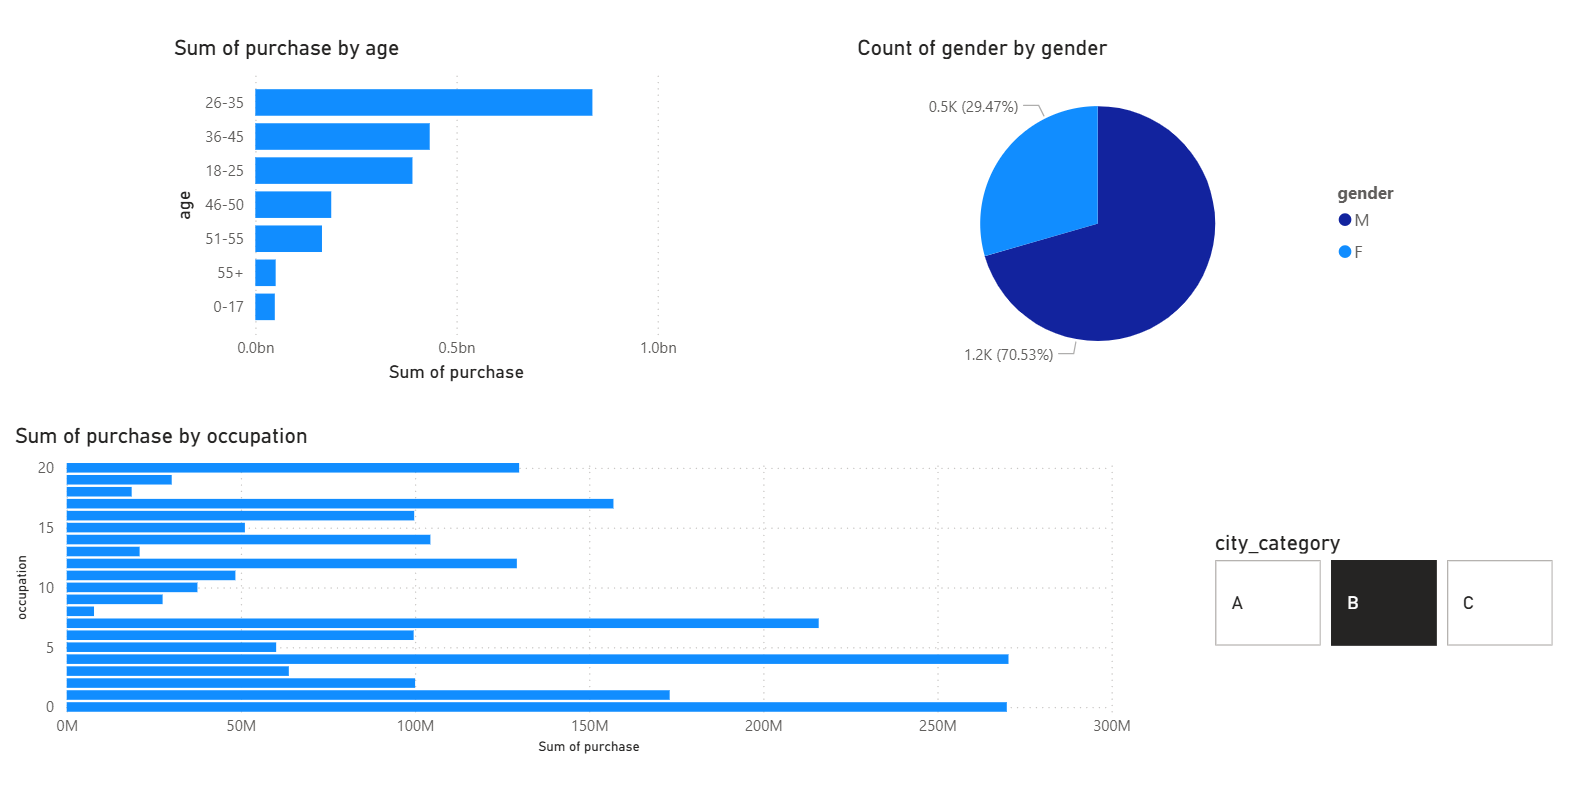

This screenshot's page, from the dashboard's own definition file:
{"tool":"powerbi","page":{"name":"Page 2","canvas":[1280,720],"ordinal":1},"visuals":[{"type":"barChart","fields":{"Y":["Sum(public fct_sales.purchase)"],"Category":["public dim_customers.age"]},"box":[136.3,35,408.9,280.1],"z":0},{"type":"pieChart","fields":{"Y":["CountNonNull(public dim_customers.gender)"],"Category":["public dim_customers.gender"]},"box":[679.1,35,455.2,280.1],"z":1000},{"type":"barChart","fields":{"Y":["Sum(public fct_sales.purchase)"],"Category":["public dim_customers.occupation"]},"box":[10,342.7,896.7,267.6],"z":2000},{"type":"advancedSlicerVisual","fields":{"Values":["public dim_customers.city_category"]},"box":[963,427.7,278.9,97.5],"z":2001}]}

Visuals, with their boxes on the page's 1280x720 design canvas (x1, y1, x2, y2). These are canvas units, not pixel positions in the 1594x805 screenshot, which may show the page scaled, cropped or inside an application window:
barChart - Sum(public fct_sales.purchase) x public dim_customers.age: region(136, 35, 545, 315)
pieChart - CountNonNull(public dim_customers.gender) x public dim_customers.gender: region(679, 35, 1134, 315)
barChart - Sum(public fct_sales.purchase) x public dim_customers.occupation: region(10, 343, 907, 610)
advancedSlicerVisual - public dim_customers.city_category: region(963, 428, 1242, 525)
